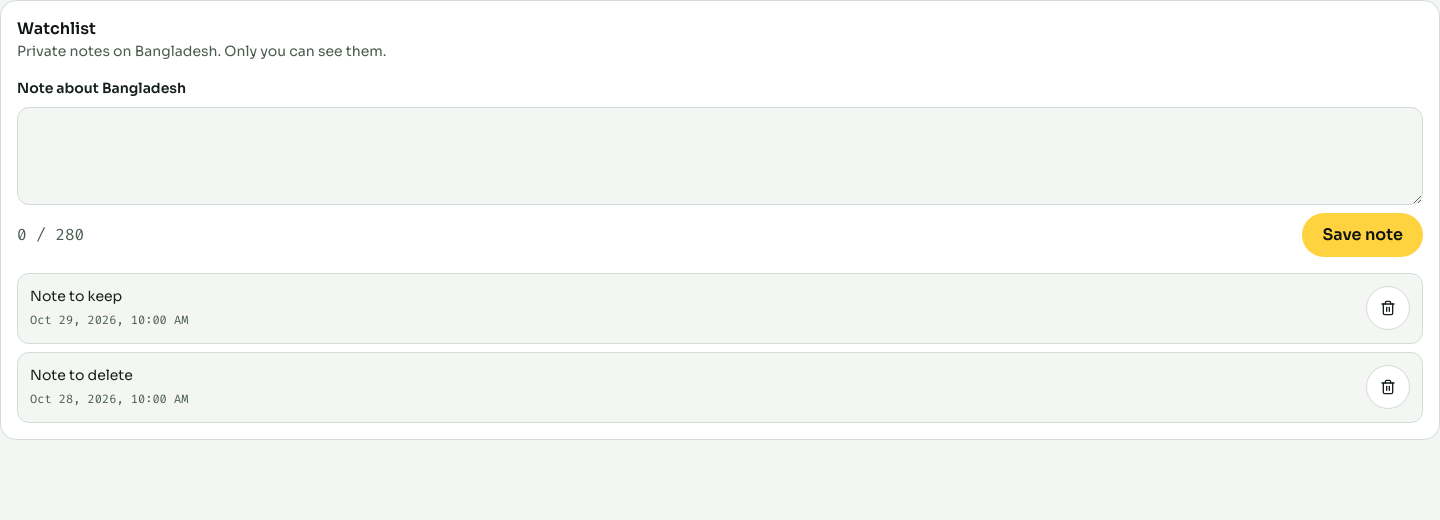
WatchlistCard delete › keeps showing the note when the server still has it after a reported delete
The width and height of the screenshot is (1440, 520).
expect the text "Note to delete" is shown: met, box [30,366,133,384]
Click the button named "Delete note from " at (1388, 387), box [1366,365,1410,409]
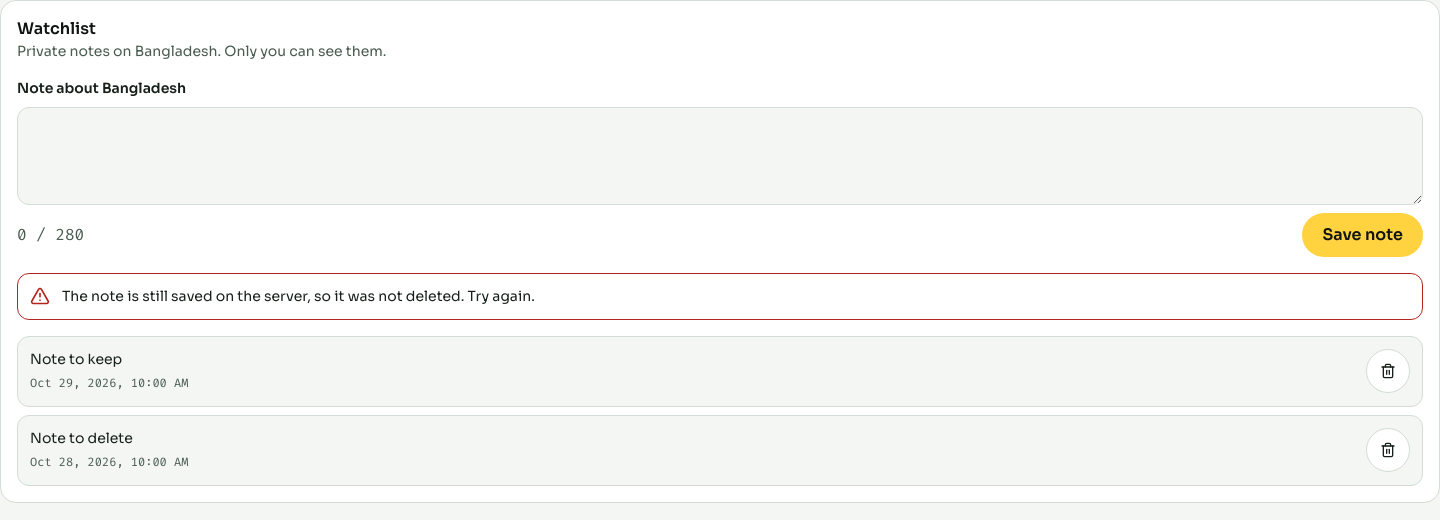
expect the text "Note to delete" is shown: met, box [30,429,133,447]
expect the message shows "still saved on the server": met, box [62,287,535,305]
